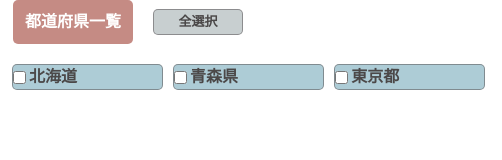
PrefectureList Component › ボタン操作で全ての都道府県を選択・全解除できる
Expected: the text "北海道" is shown, [12,64,163,90]
Click the button "全選択" at (198, 22), box [153,9,243,35]
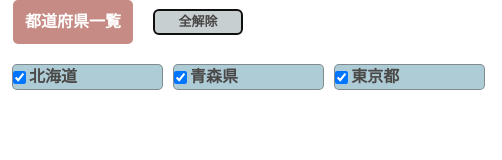
Result: the button "全解除" is shown
Click the button "全解除" at (198, 22), box [153,9,243,35]
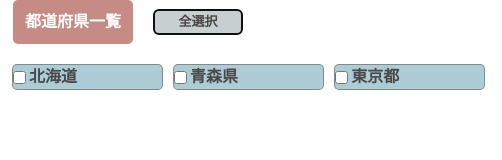
Result: the button "全選択" is shown at [153,9,243,35]
